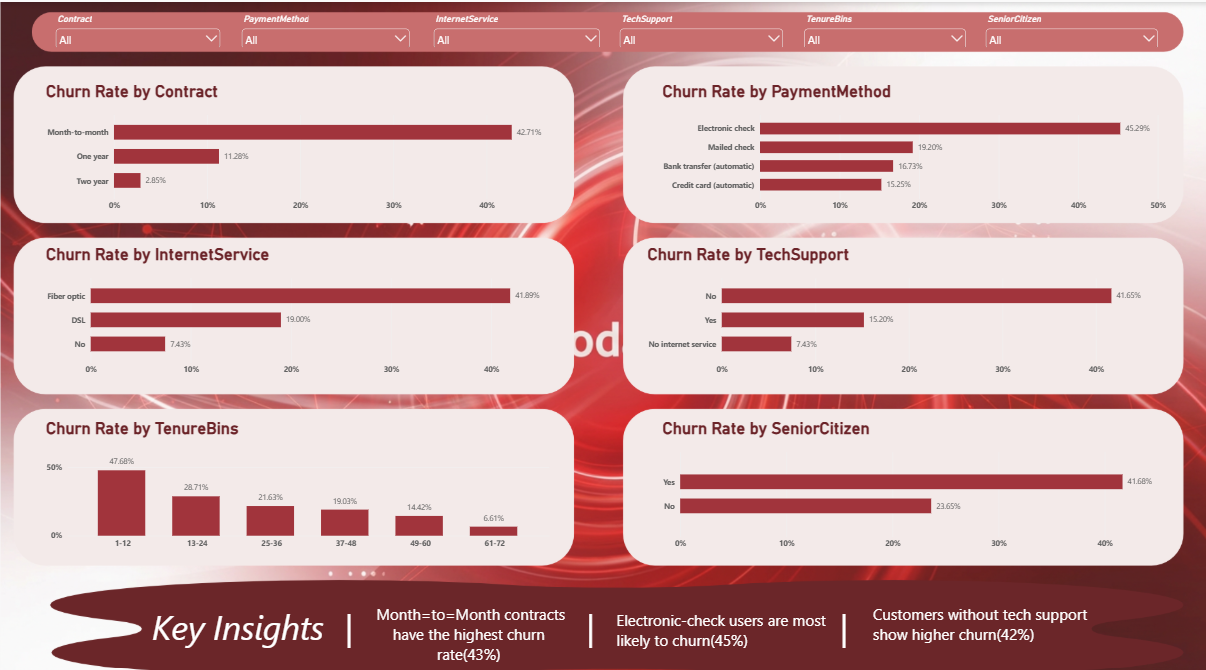

Layout of this report page (visuals, bound fields, positions):
{"tool":"powerbi","page":{"name":"Churn Analysis","canvas":[1920,1080],"ordinal":2},"visuals":[{"type":"barChart","fields":{"Category":["customerchurn.Contract"],"Y":["customerchurn.Churn Rate"]},"box":[57.3,112.1,832.7,241],"z":0},{"type":"barChart","fields":{"Category":["customerchurn.PaymentMethod"],"Y":["customerchurn.Churn Rate"]},"box":[1037.9,112.1,832.7,241],"z":1},{"type":"barChart","fields":{"Category":["customerchurn.InternetService"],"Y":["customerchurn.Churn Rate"]},"box":[57.3,372.2,832.7,241],"z":2},{"type":"barChart","fields":{"Category":["customerchurn.TechSupport"],"Y":["customerchurn.Churn Rate"]},"box":[1014,372.2,832.7,241],"z":3},{"type":"barChart","fields":{"Category":["customerchurn.SeniorCitizen"],"Y":["customerchurn.Churn Rate"]},"box":[1037.9,649,832.7,241],"z":4},{"type":"columnChart","fields":{"Category":["customerchurn.TenureBins"],"Y":["customerchurn.Churn Rate"]},"box":[57.3,649,832.7,241],"z":5},{"type":"slicer","fields":{"Values":["customerchurn.Contract"]},"box":[83.5,19.1,272,52.5],"z":6},{"type":"slicer","fields":{"Values":["customerchurn.PaymentMethod"]},"box":[379.4,19.1,276.8,52.5],"z":7},{"type":"slicer","fields":{"Values":["customerchurn.InternetService"]},"box":[684.8,19.1,274.4,52.5],"z":8},{"type":"slicer","fields":{"Values":["customerchurn.TechSupport"]},"box":[980.6,19.1,269.6,52.5],"z":9},{"type":"slicer","fields":{"Values":["customerchurn.TenureBins"]},"box":[1274.1,19.1,267.2,52.5],"z":10},{"type":"slicer","fields":{"Values":["customerchurn.SeniorCitizen"]},"box":[1562.8,19.1,283.9,52.5],"z":11},{"type":"textbox","box":[207.6,956.8,341.2,76.3],"z":12},{"type":"textbox","box":[548.8,956.8,28.6,95.4],"z":13},{"type":"textbox","box":[577.4,956.8,336.4,124.1],"z":14},{"type":"textbox","box":[980.6,966.3,355.5,76.3],"z":15},{"type":"textbox","box":[1388.6,956.8,341.2,76.3],"z":16},{"type":"textbox","box":[932.9,956.8,26.2,76.3],"z":17},{"type":"textbox","box":[1336.1,956.8,31,76.3],"z":18}]}

Visuals, with their boxes in screenshot pixels (x1, y1, x2, y2), scaled from the page's 1920x1080 canvas onto the 1206x670 screenshot:
barChart - customerchurn.Contract x customerchurn.Churn Rate: box=[36, 70, 559, 219]
barChart - customerchurn.PaymentMethod x customerchurn.Churn Rate: box=[652, 70, 1175, 219]
barChart - customerchurn.InternetService x customerchurn.Churn Rate: box=[36, 231, 559, 380]
barChart - customerchurn.TechSupport x customerchurn.Churn Rate: box=[637, 231, 1160, 380]
barChart - customerchurn.SeniorCitizen x customerchurn.Churn Rate: box=[652, 403, 1175, 552]
columnChart - customerchurn.TenureBins x customerchurn.Churn Rate: box=[36, 403, 559, 552]
slicer - customerchurn.Contract: box=[52, 12, 223, 44]
slicer - customerchurn.PaymentMethod: box=[238, 12, 412, 44]
slicer - customerchurn.InternetService: box=[430, 12, 602, 44]
slicer - customerchurn.TechSupport: box=[616, 12, 785, 44]
slicer - customerchurn.TenureBins: box=[800, 12, 968, 44]
slicer - customerchurn.SeniorCitizen: box=[982, 12, 1160, 44]
textbox: box=[130, 594, 345, 641]
textbox: box=[345, 594, 363, 653]
textbox: box=[363, 594, 574, 669]
textbox: box=[616, 599, 839, 647]
textbox: box=[872, 594, 1087, 641]
textbox: box=[586, 594, 602, 641]
textbox: box=[839, 594, 859, 641]
